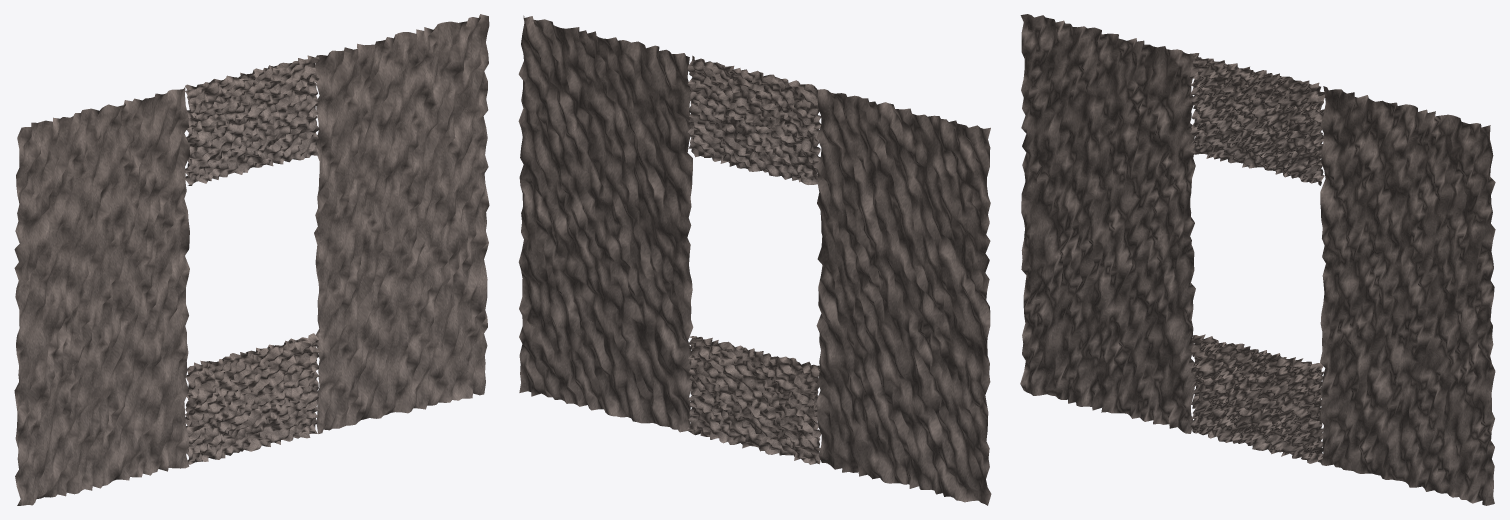
Rendered from VistaHoleWall.obj.
3 views of the same model, side by side, from view 1: azimuth 30°, elevation 25°; view 2: azimuth 150°, elevation 25°; view 3: azimuth 330°, elevation 25° (orthographic).
Visible parts, largest first — view 1: VistaHoleWall_HD; view 2: VistaHoleWall_HD; view 3: VistaHoleWall_HD.
Part boxes in pixels (x1,y1,x2,y2): VistaHoleWall_HD: [14, 14, 489, 505]; VistaHoleWall_HD: [518, 15, 991, 505]; VistaHoleWall_HD: [1020, 14, 1495, 505].
Bounding box in the file's own units: 2.6 × 2 × 0.06.
Materials: 1 (1 with a texture image).
